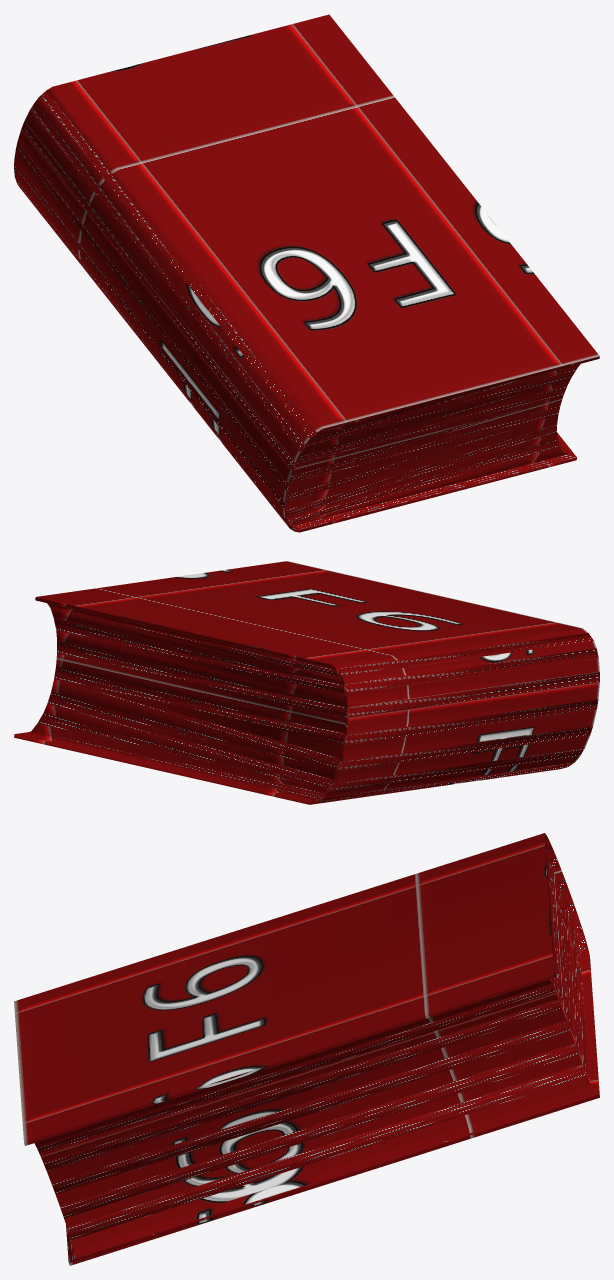
The model's file is KnjigaSix.fbx.
The picture shows the model from 3 angles, top to bottom: view 1: azimuth 30°, elevation 25°; view 2: azimuth 150°, elevation 25°; view 3: azimuth 270°, elevation 25°; orthographic projection. The views are drawn at different scales.
Visible parts, largest first — view 1: book; view 2: book; view 3: book.
Boxes of the visible parts, left/top/right/bottom form: book: left=14, top=14, right=599, bottom=532; book: left=14, top=561, right=599, bottom=804; book: left=14, top=833, right=599, bottom=1265.
Bounding box in the file's own units: 10.86 × 8.97 × 16.71.
Materials: 1 (1 with a texture image).
